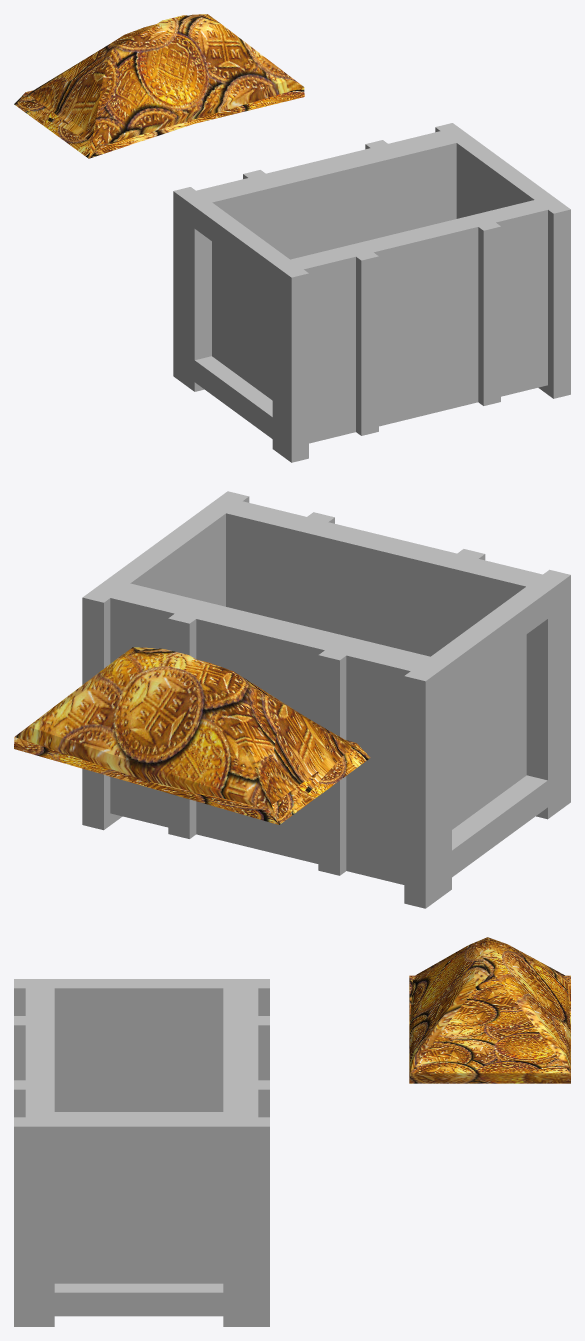
File: bottom chest + gold.fbx
The picture shows the model from 3 angles, top to bottom: view 1: azimuth 30°, elevation 25°; view 2: azimuth 150°, elevation 25°; view 3: azimuth 270°, elevation 25°; orthographic projection. The views are drawn at different scales.
Visible parts, largest first — view 1: Chest Base.001, Cube.002; view 2: Chest Base.001, Cube.002; view 3: Chest Base.001, Cube.002.
Boxes of the visible parts, x1,y1,x2,y2 form: Chest Base.001: (173, 123, 570, 462); Cube.002: (14, 14, 304, 158); Chest Base.001: (82, 491, 570, 908); Cube.002: (14, 647, 370, 824); Chest Base.001: (14, 979, 269, 1326); Cube.002: (409, 937, 570, 1083).
Bounding box in the file's own units: 643 × 525 × 958.
